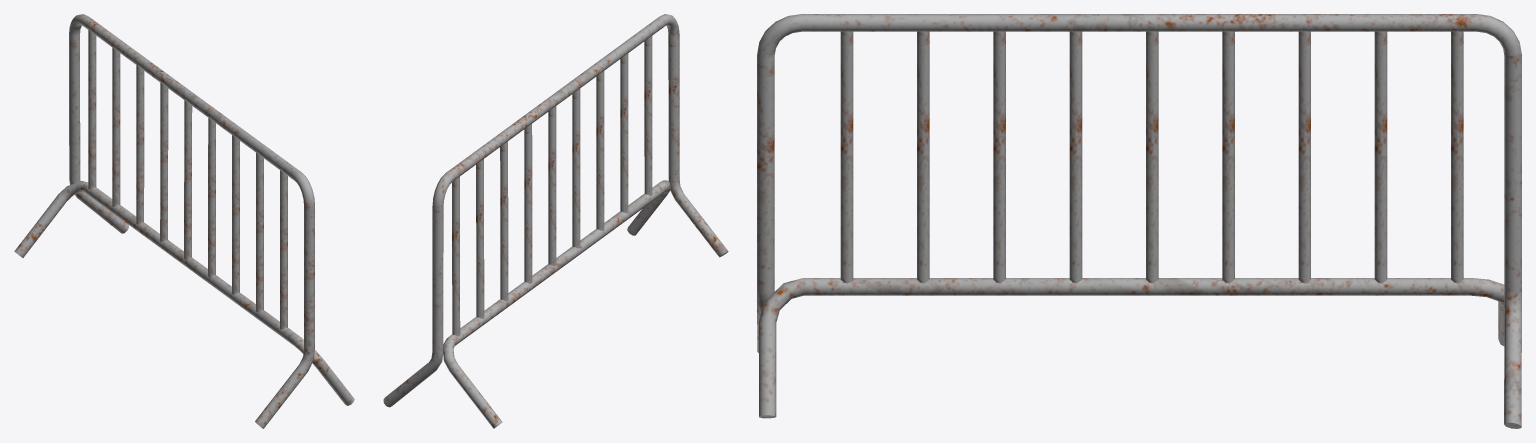
File: aws_Fence_02_visual.DAE
The picture shows the model from 3 angles, left to right: view 1: azimuth 30°, elevation 25°; view 2: azimuth 150°, elevation 25°; view 3: azimuth 270°, elevation 25°; orthographic projection. The views are drawn at different scales.
Parts seen in each view (by area): view 1: aws_Fence_02_visual; view 2: aws_Fence_02_visual; view 3: aws_Fence_02_visual.
Part boxes in pixels (x1,y1,x2,y2): aws_Fence_02_visual: [14, 14, 354, 428]; aws_Fence_02_visual: [383, 14, 728, 428]; aws_Fence_02_visual: [757, 14, 1521, 428].
Size of the model in its own units: 60.78 by 220 by 120.
1 material, 1 textured.
